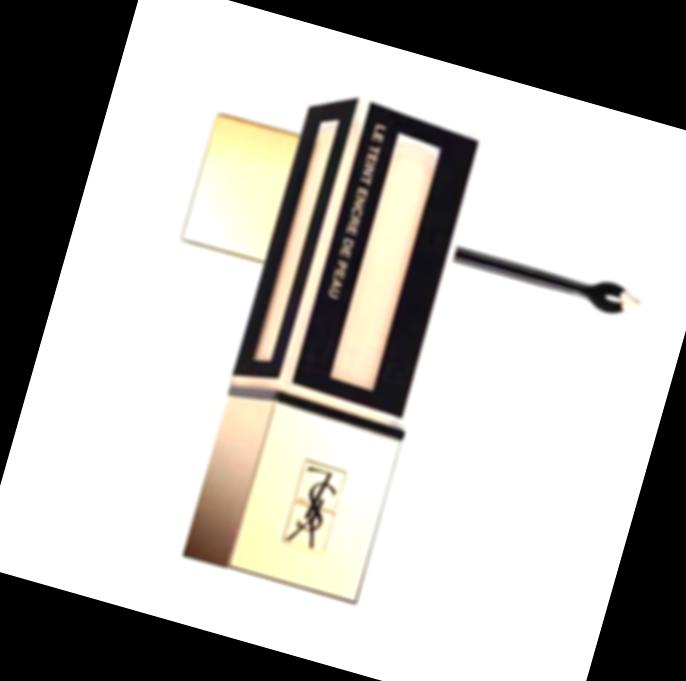cosmetic: (177, 80, 488, 603)
